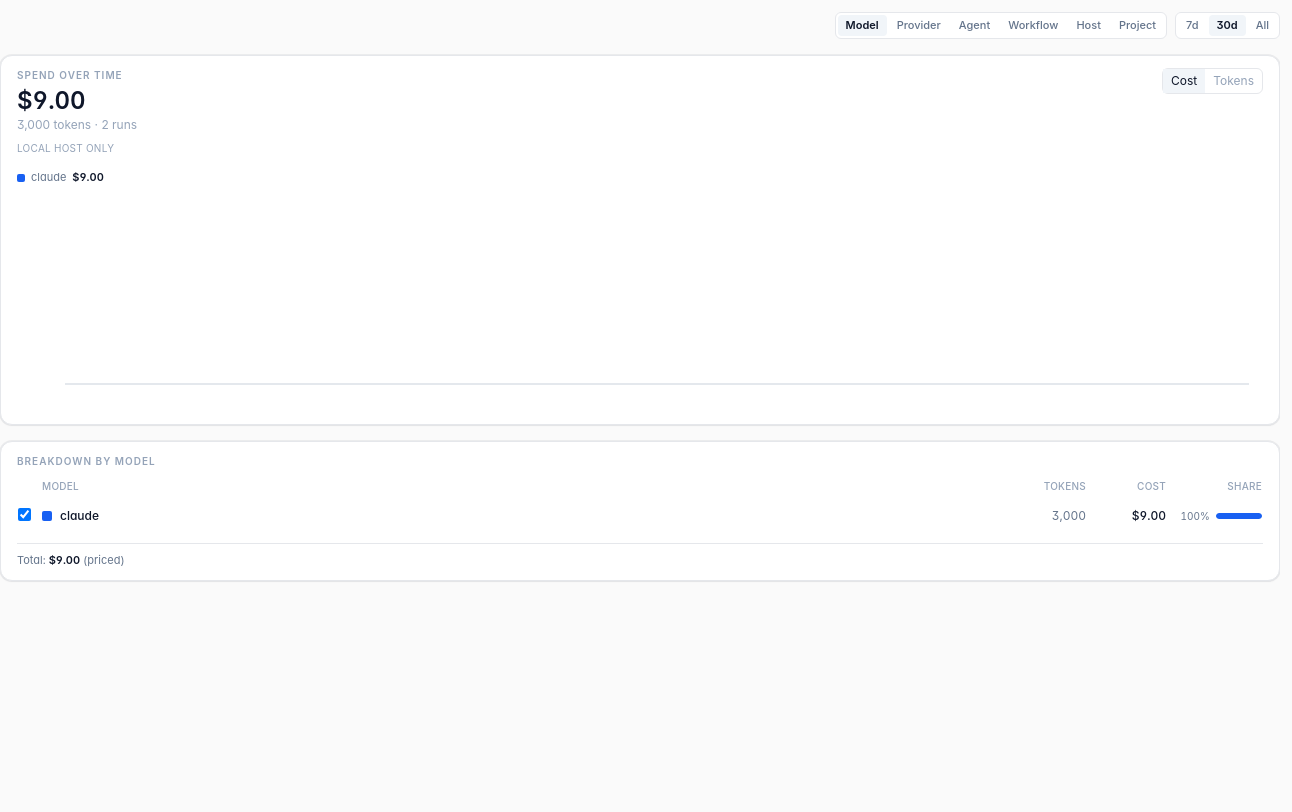
Test: AgentUsageTimeline › changing the pivot re-stacks the (already agent-filtered) graph without refetching
expect the text "claude" below "local host only" is shown: met, box [31,170,66,184]
Click the button "workflow": (1033, 25) [1000,15,1066,36]
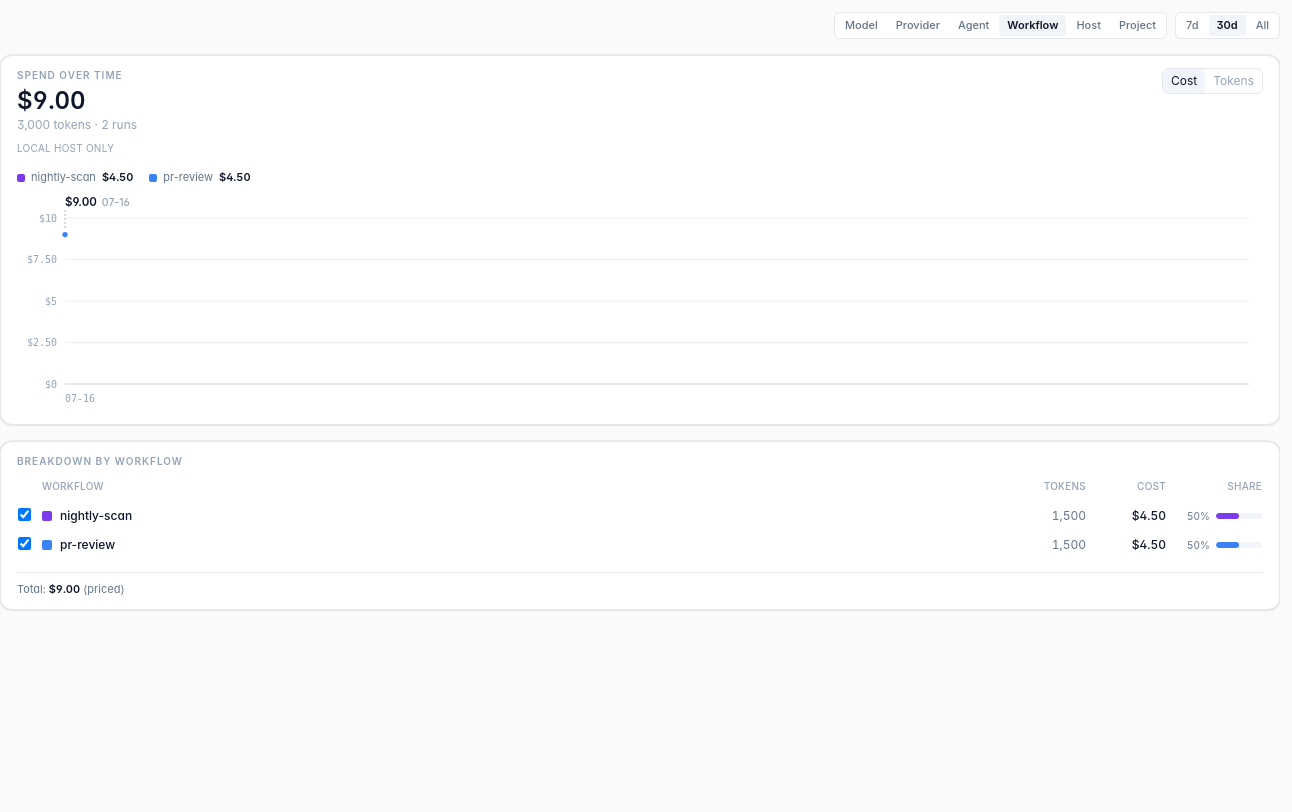
expect the text "nightly-scan" below "local host only" is shown: met, box [31,170,96,184]
expect the text "pr-review" below "local host only" is shown: met, box [163,170,213,184]
